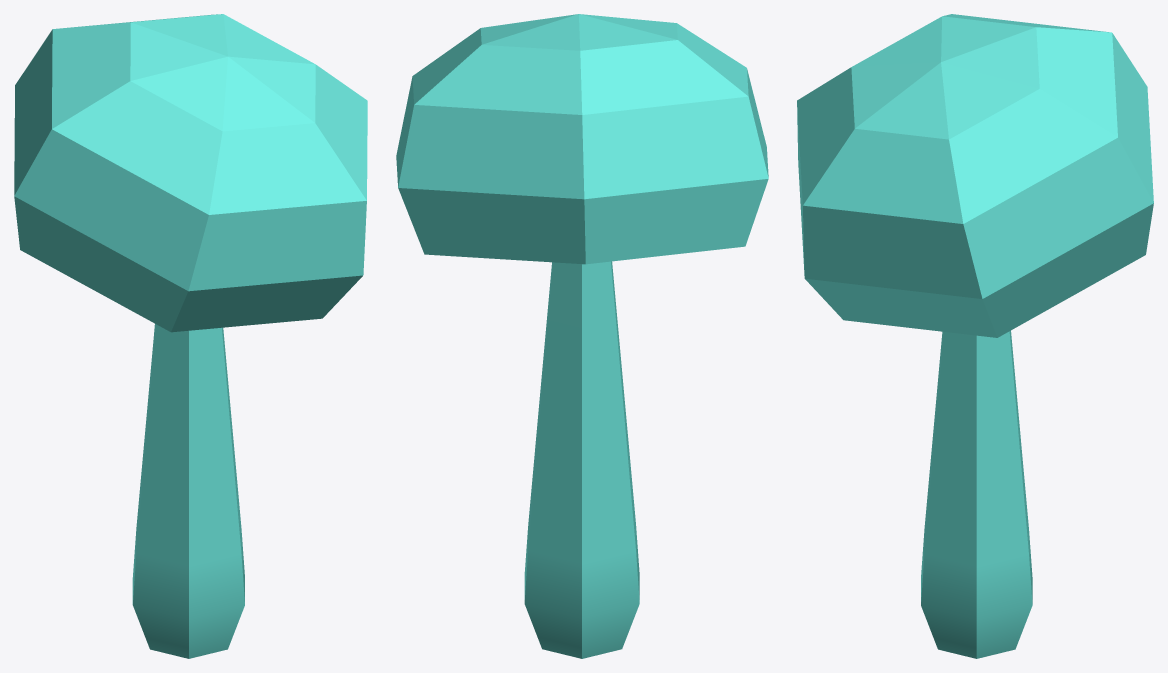
Rendered from Mushroom_2.fbx.
3 views of the same model, side by side, from view 1: azimuth 30°, elevation 25°; view 2: azimuth 150°, elevation 25°; view 3: azimuth 270°, elevation 25° (orthographic). The views are drawn at different scales.
Parts seen in each view (by area): view 1: Mushroom_2; view 2: Mushroom_2; view 3: Mushroom_2.
Boxes of the visible parts, bbox=[...] form: Mushroom_2: bbox=[14, 14, 367, 658]; Mushroom_2: bbox=[396, 14, 768, 658]; Mushroom_2: bbox=[797, 14, 1153, 658].
Size of the model in its own units: 8.1 by 13.09 by 7.06.
